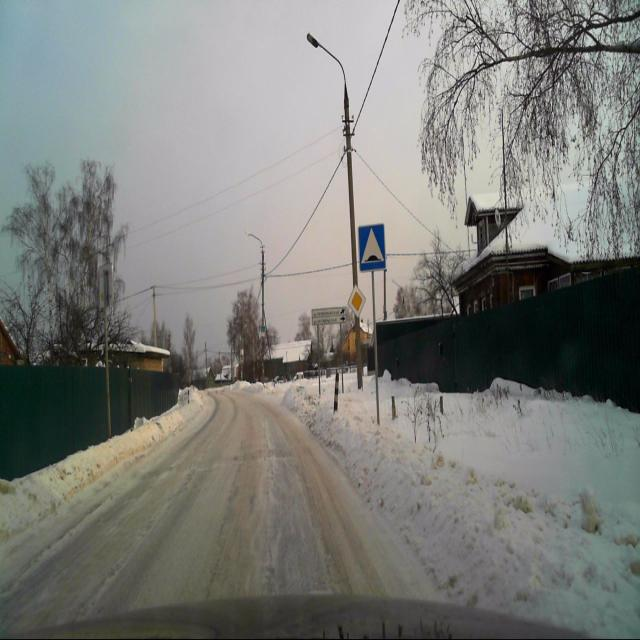road sign: (358, 223, 386, 271), (347, 284, 366, 317)
